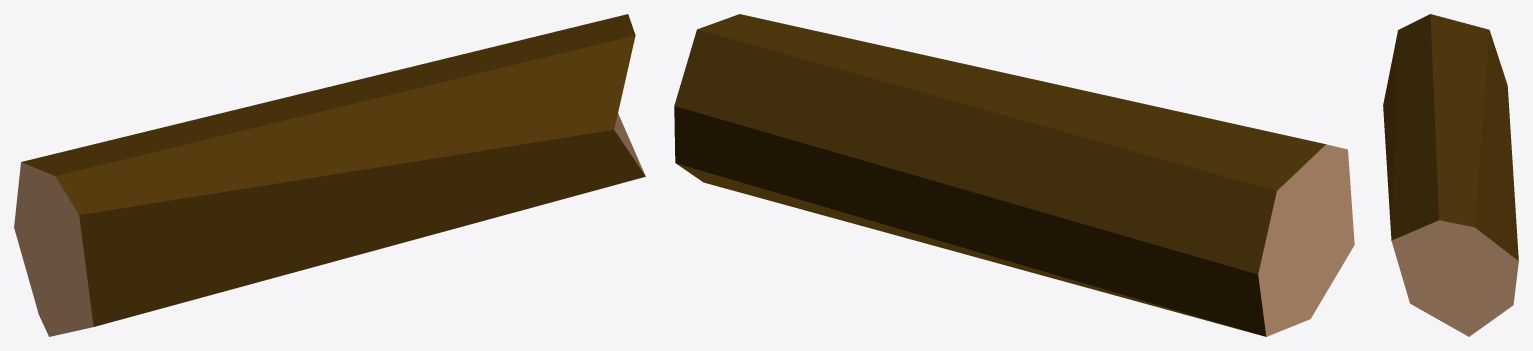
Rendered from Log2.fbx.
3 views of the same model, side by side, from view 1: azimuth 30°, elevation 25°; view 2: azimuth 150°, elevation 25°; view 3: azimuth 270°, elevation 25° (orthographic). The views are drawn at different scales.
Parts seen in each view (by area): view 1: Cylinder.001; view 2: Cylinder.001; view 3: Cylinder.001.
Part boxes in pixels (x1,y1,x2,y2): Cylinder.001: (14, 14, 645, 336); Cylinder.001: (674, 14, 1354, 336); Cylinder.001: (1383, 14, 1518, 336).
Bounding box in the file's own units: 323 × 87.95 × 89.44.
